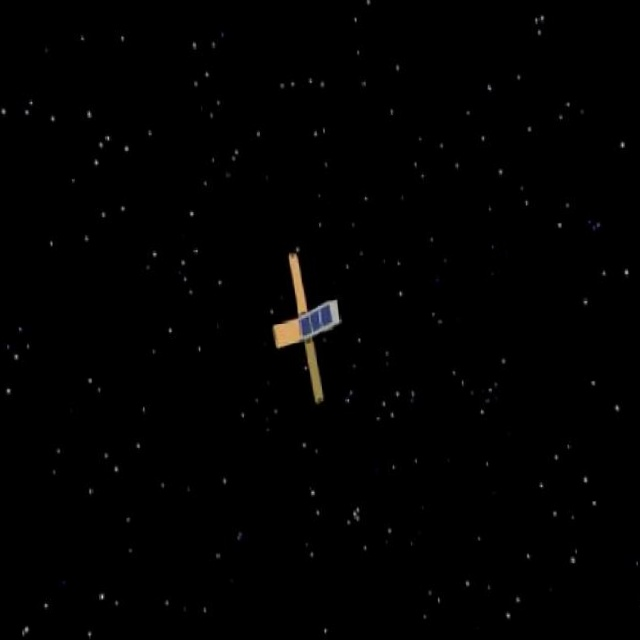medium_debris: (245, 249, 344, 409)
